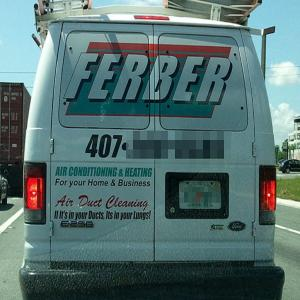Vehicle-registration-plate: (168, 174, 229, 221)
